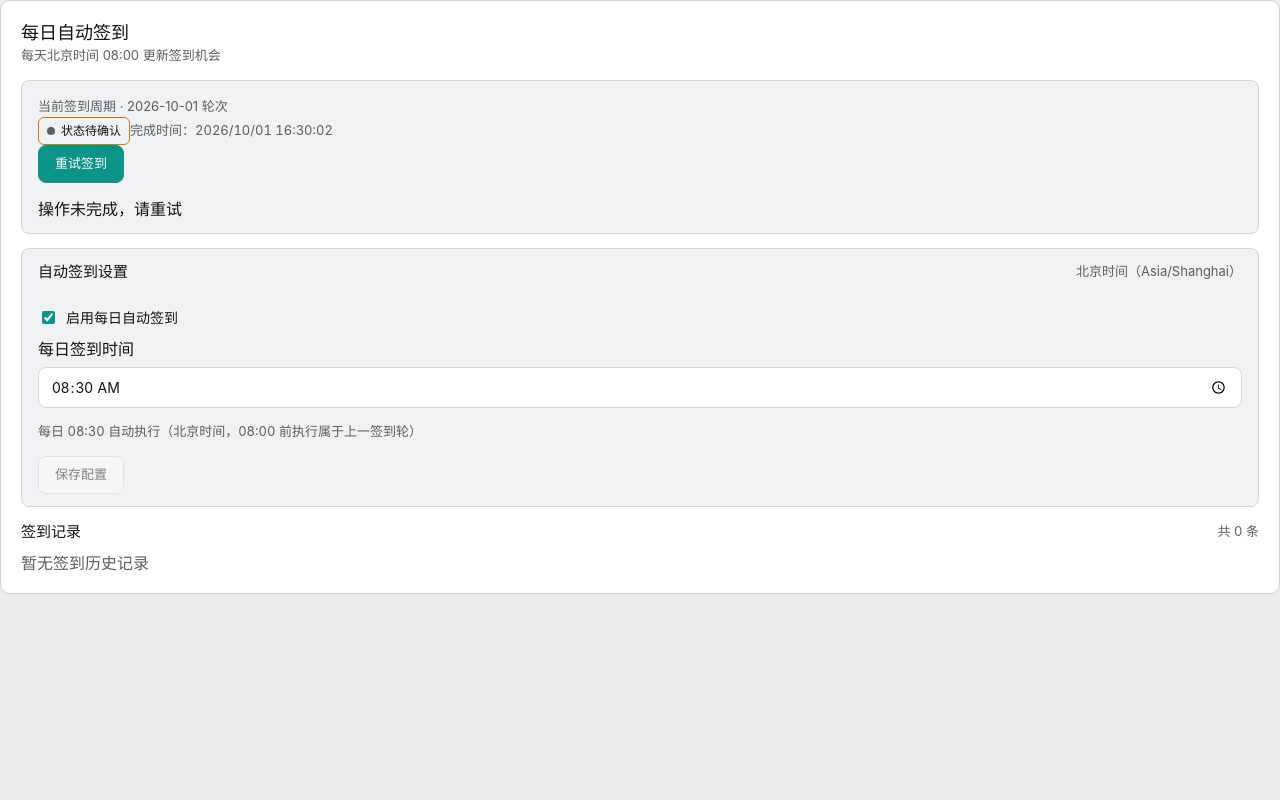
Scenario: CheckinPanel 独立签到面板 › 今日签到状态为 unknown 时，点击重试必须经过人工显式确认弹窗
Expected: the text "状态待确认" is shown, left=38, top=116, right=130, bottom=144
# 点击重试，不应立即调用 onRun，而应弹出确认弹窗
Click the button "重试签到". click: (81, 164)
box: left=38, top=144, right=124, bottom=182
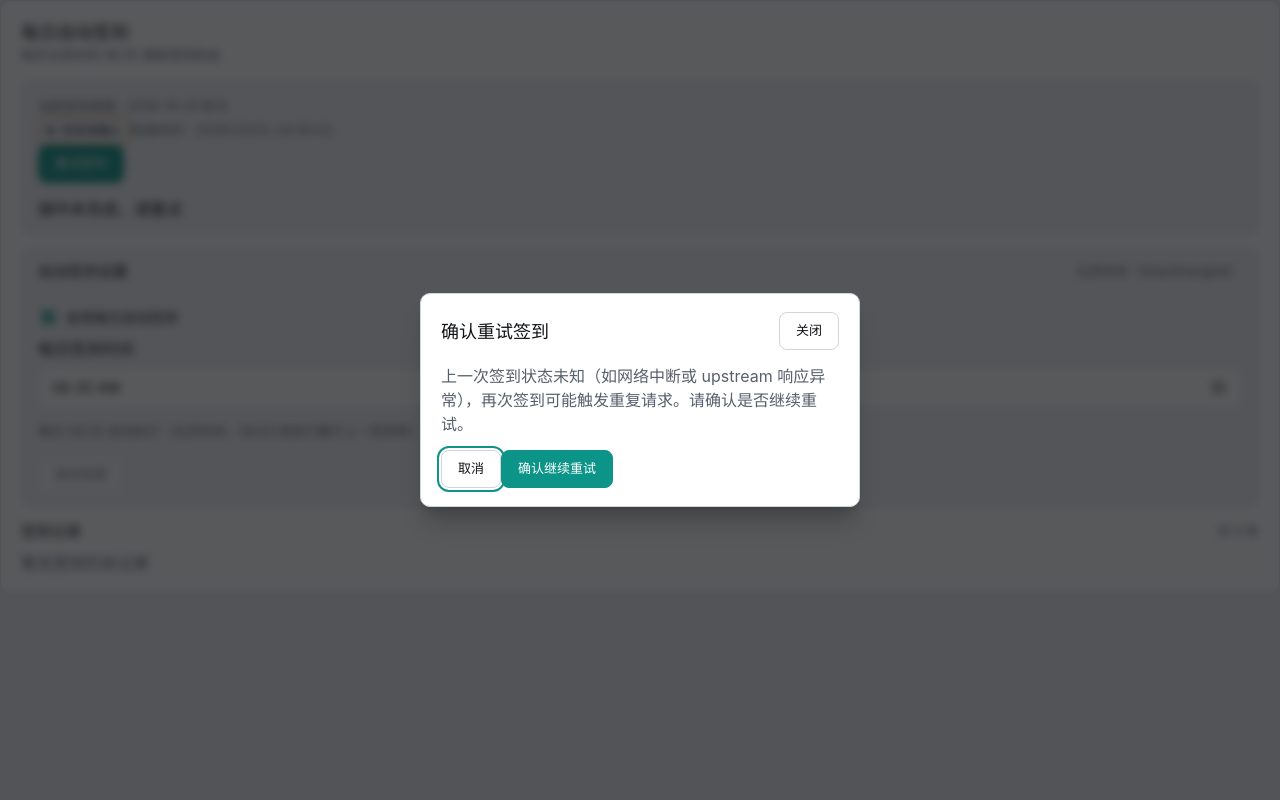
Now the dialog is shown, box left=420, top=293, right=860, bottom=507
Now the heading "确认重试签到" is shown, box left=441, top=318, right=549, bottom=344
Now the text "上一次签到状态未知（如网络中断或 upstream 响应异常），再次签到可能触发重复请求。请确认是否继续重试。" is shown, box left=441, top=364, right=839, bottom=436
Click the button "取消". click: (471, 469)
box: left=441, top=450, right=501, bottom=488
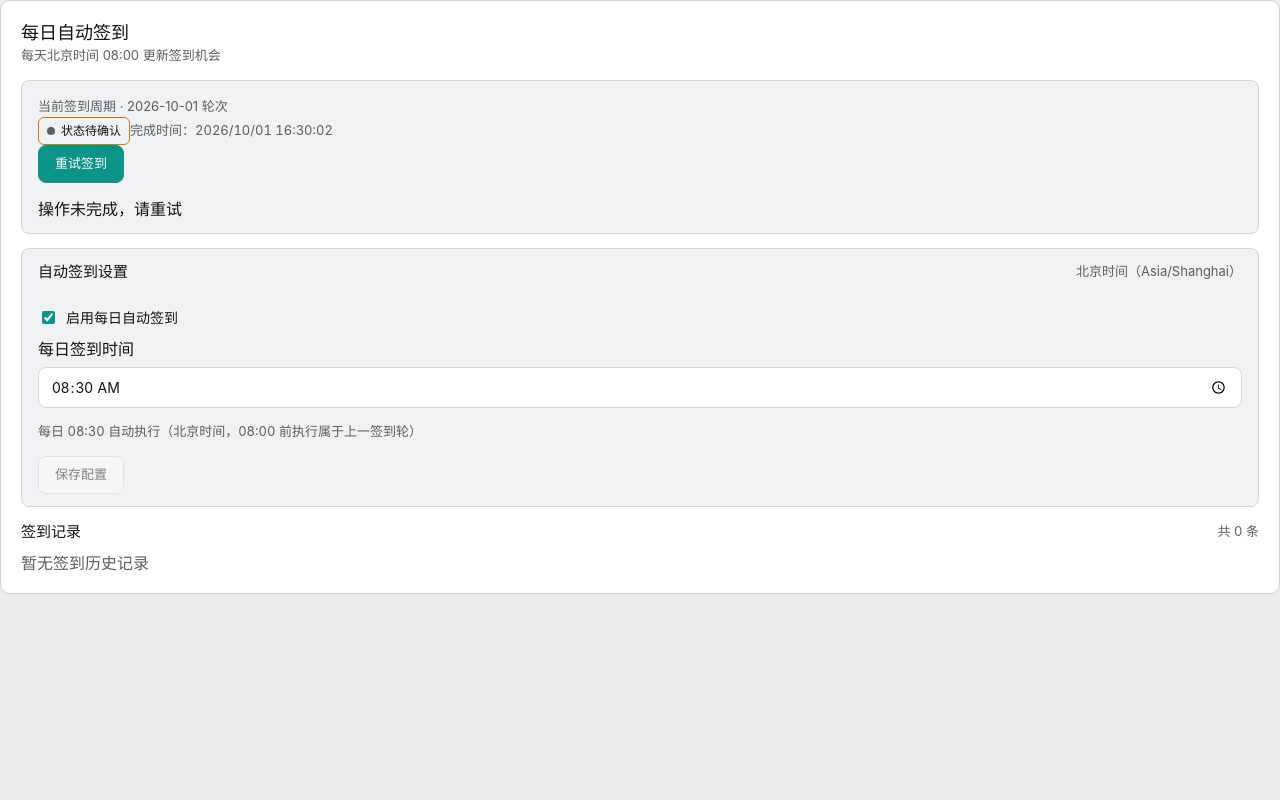
Now the dialog is gone
#  再次点击并确认
Click the button "重试签到". click: (81, 164)
box: left=38, top=144, right=124, bottom=182
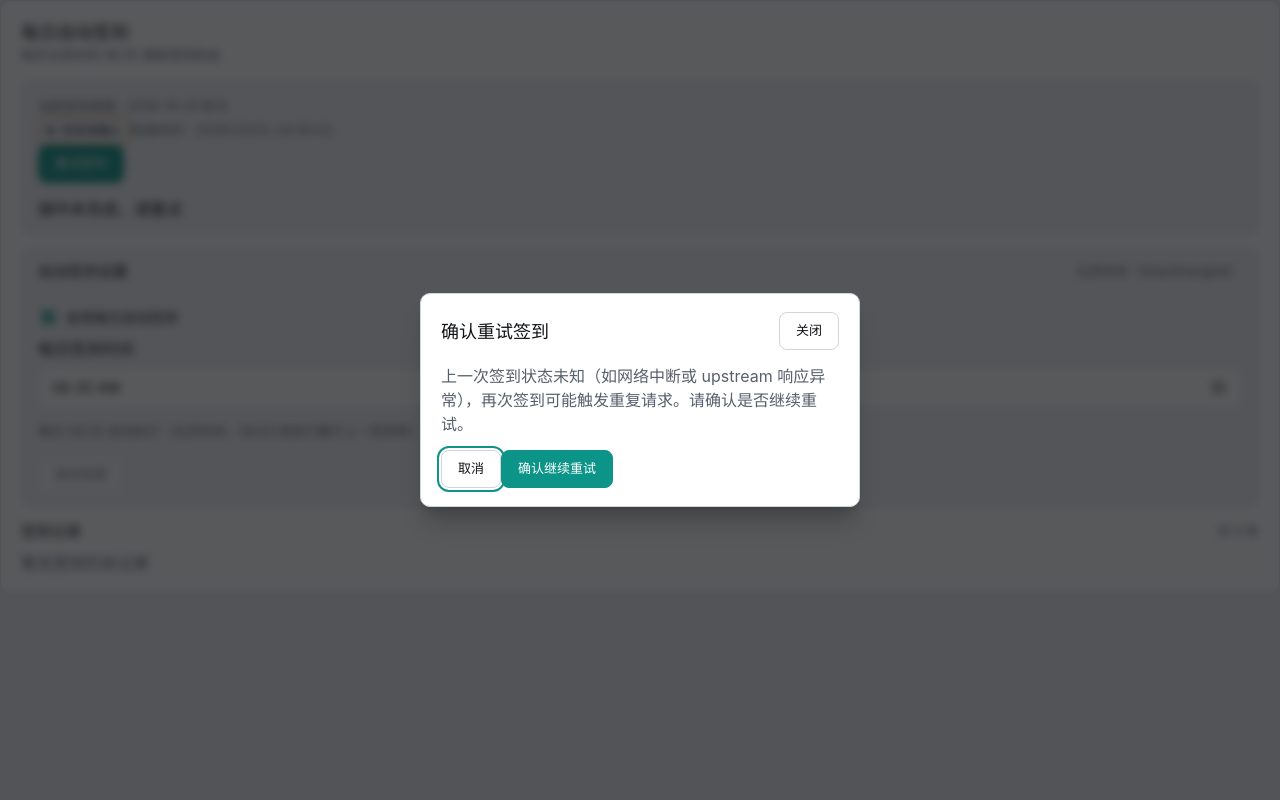
Click the button "确认继续重试". click: (557, 469)
box: left=501, top=450, right=613, bottom=488
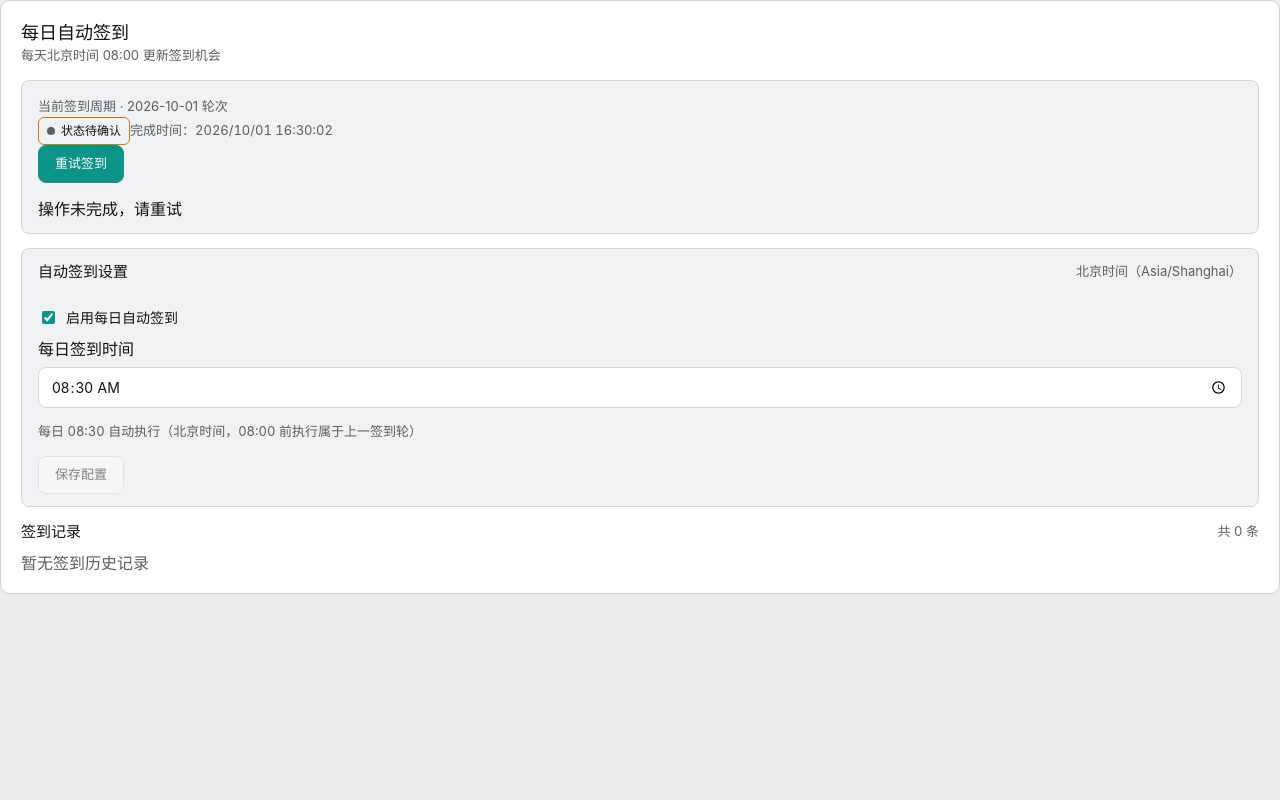
Now the dialog is gone
